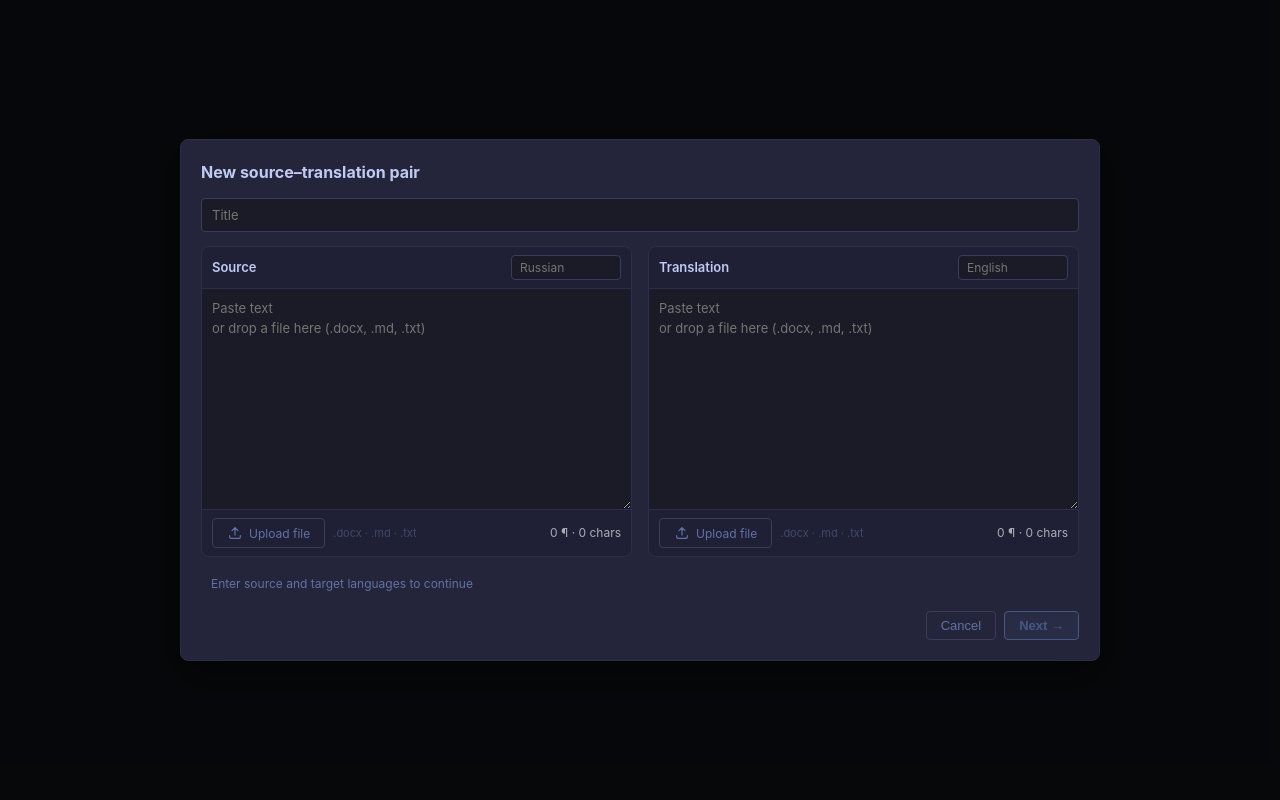
Test: UploadModal AI-translate mode (S4 §3.2) › enabling AI-translate mode swaps the target textarea for the placeholder card and Next → Create & translate
Type "Текст" into the text box with test id "panel-source-textarea".
click(416, 399); type("Текст")  # box [202,289,631,509]
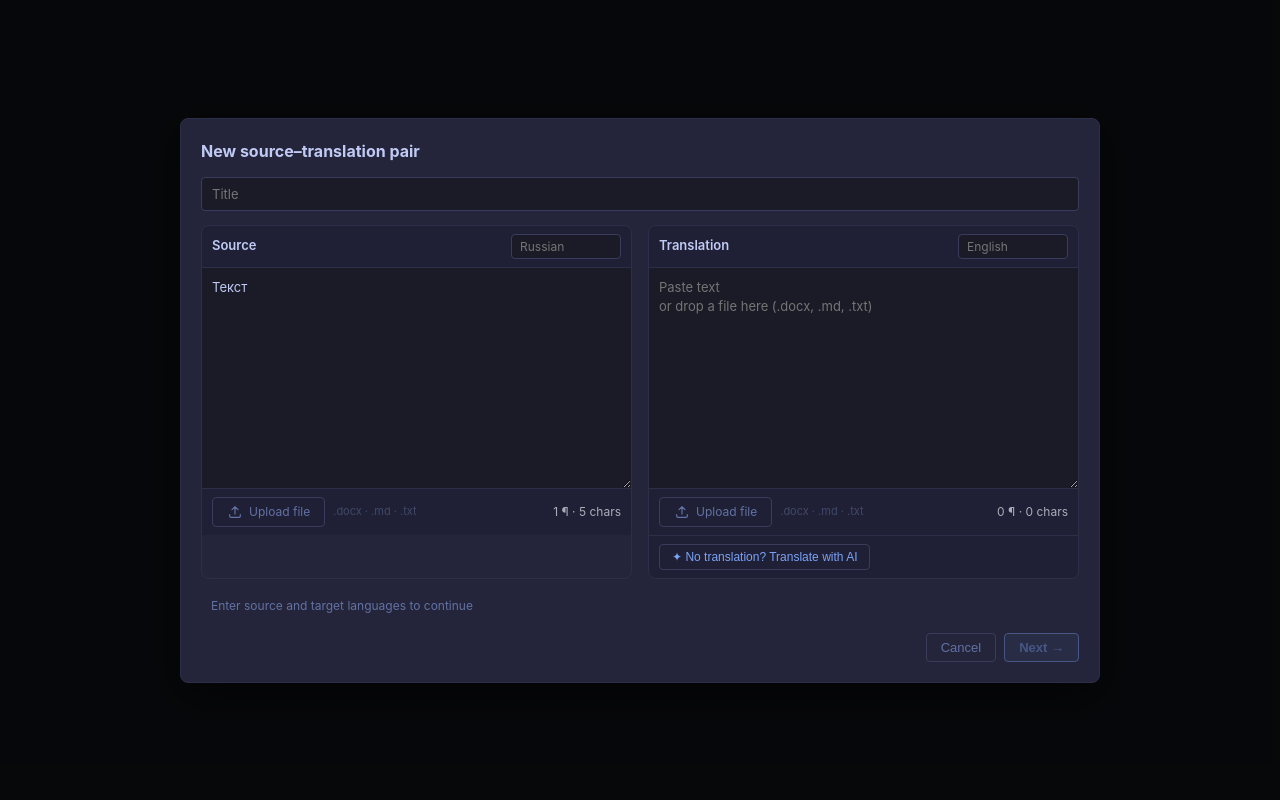
Click the button with test id "ai-translate-cta".
click(765, 556)  # box [659,544,870,570]
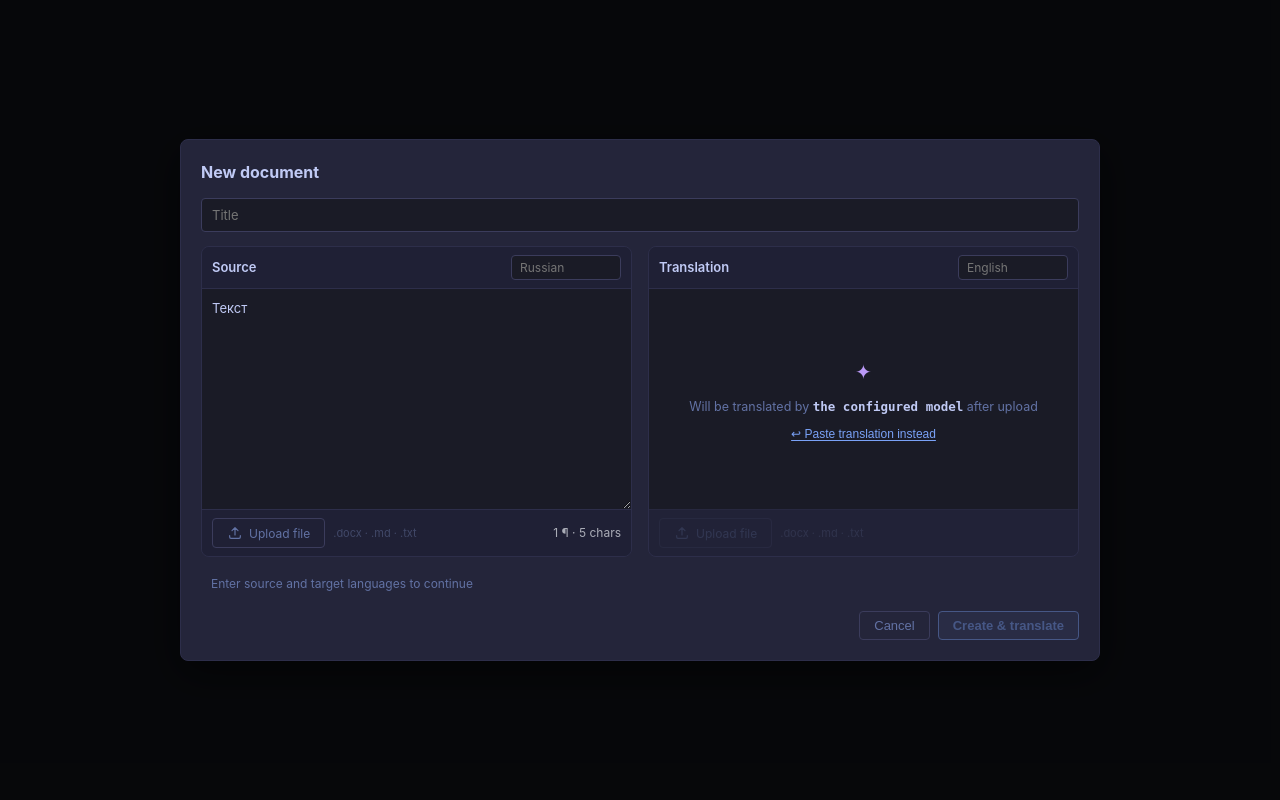
Check: the element with test id "ai-translate-card" is shown, box [649,289,1078,509]
Check: the text box with test id "panel-target-textarea" is gone
Check: the button "Create & translate" is shown, box [938,611,1079,640]
Click the button "↩ Paste translation instead".
click(864, 434)  # box [791,427,936,441]
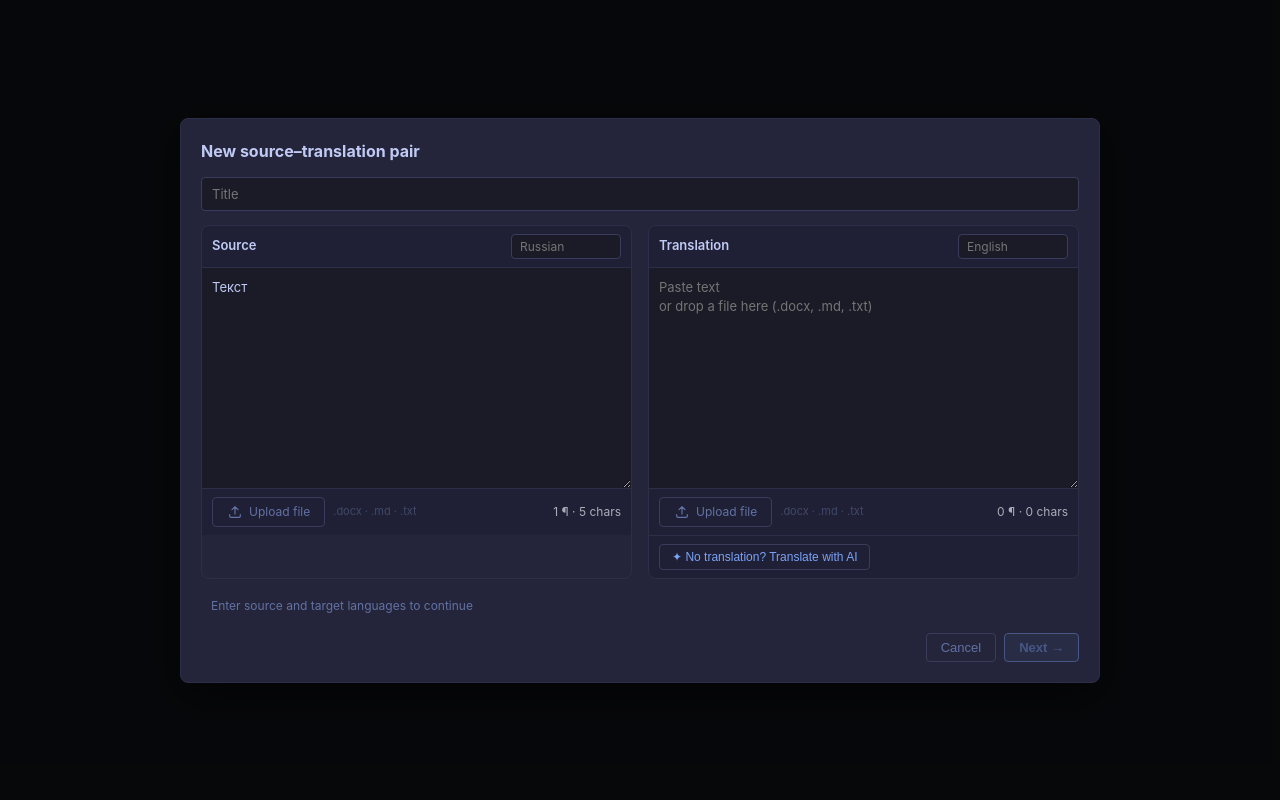
Check: the element with test id "ai-translate-card" is gone
Check: the text box with test id "panel-target-textarea" is shown, box [649,268,1078,488]
